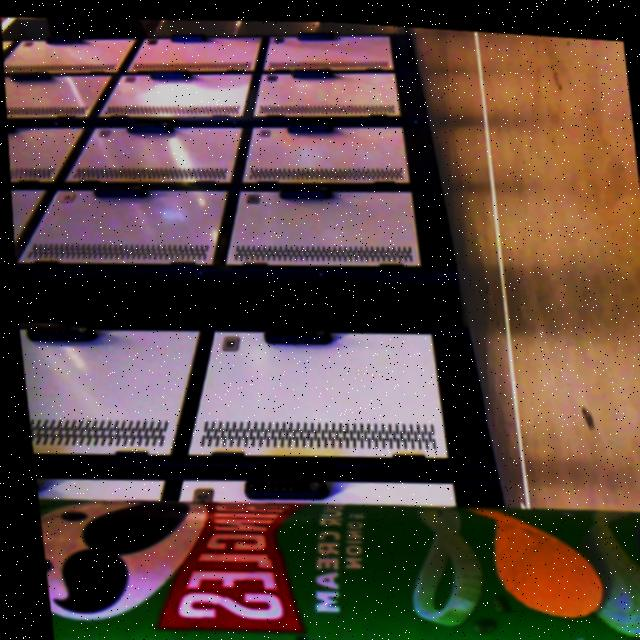greenpringles: (29, 433, 640, 640)
